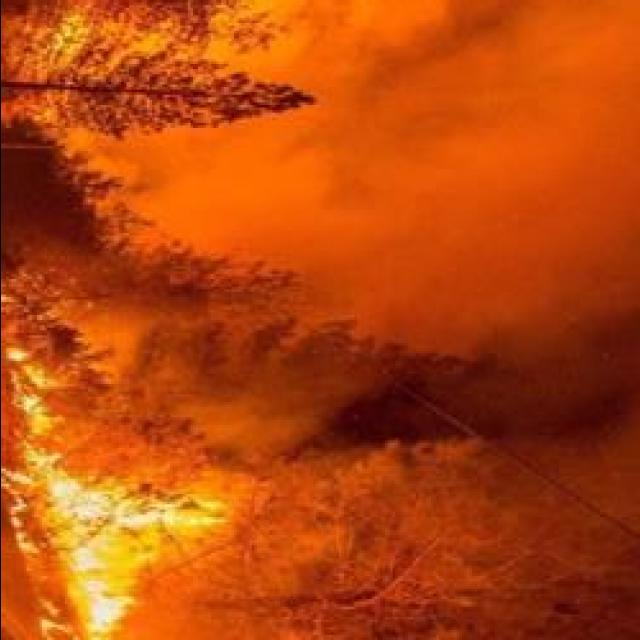fire: (52, 482, 108, 516), (88, 586, 122, 634)
smoke: (132, 134, 358, 262), (307, 0, 497, 51)
